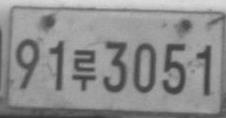0: (131, 42, 157, 93)
1: (45, 39, 71, 91), (192, 43, 218, 95)
3: (102, 40, 128, 93)
5: (161, 42, 187, 95)
9: (14, 37, 40, 89)
루: (71, 48, 96, 91)
